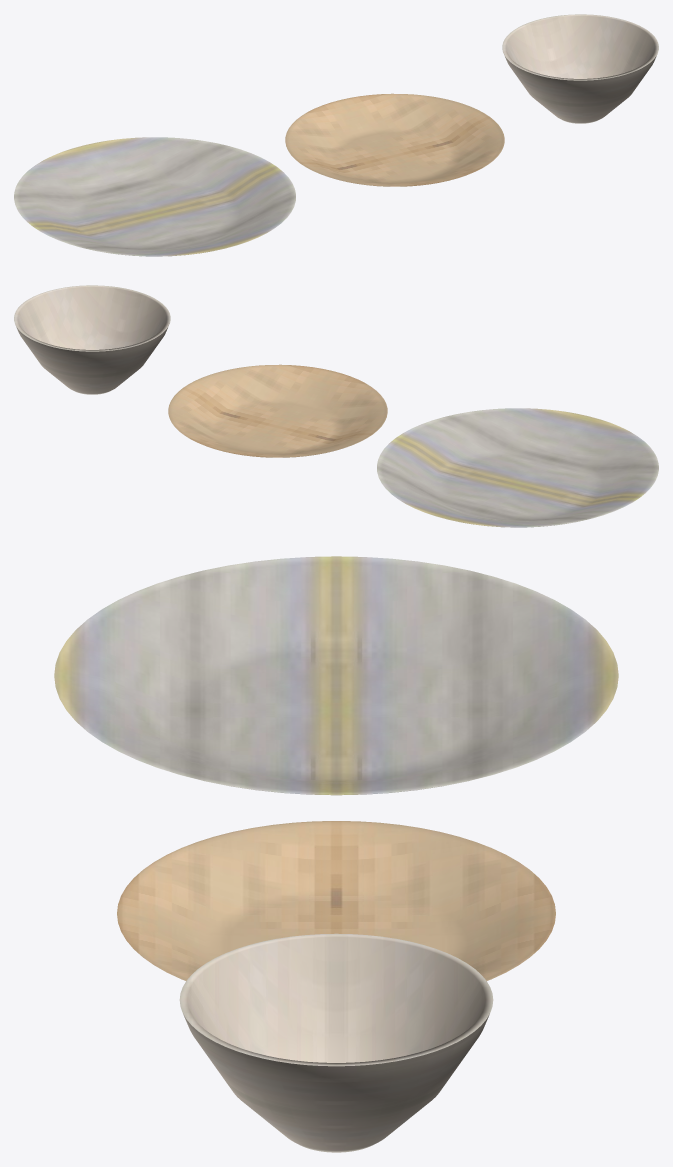
File: MAR-16.glb
3 renders of one model, top to bottom at view 1: azimuth 30°, elevation 25°; view 2: azimuth 150°, elevation 25°; view 3: azimuth 270°, elevation 25°, orthographic. The views are drawn at different scales.
Bounding box in the file's own units: 0.68 × 0.07 × 0.27.
Materials: 6 (6 with a texture image).
